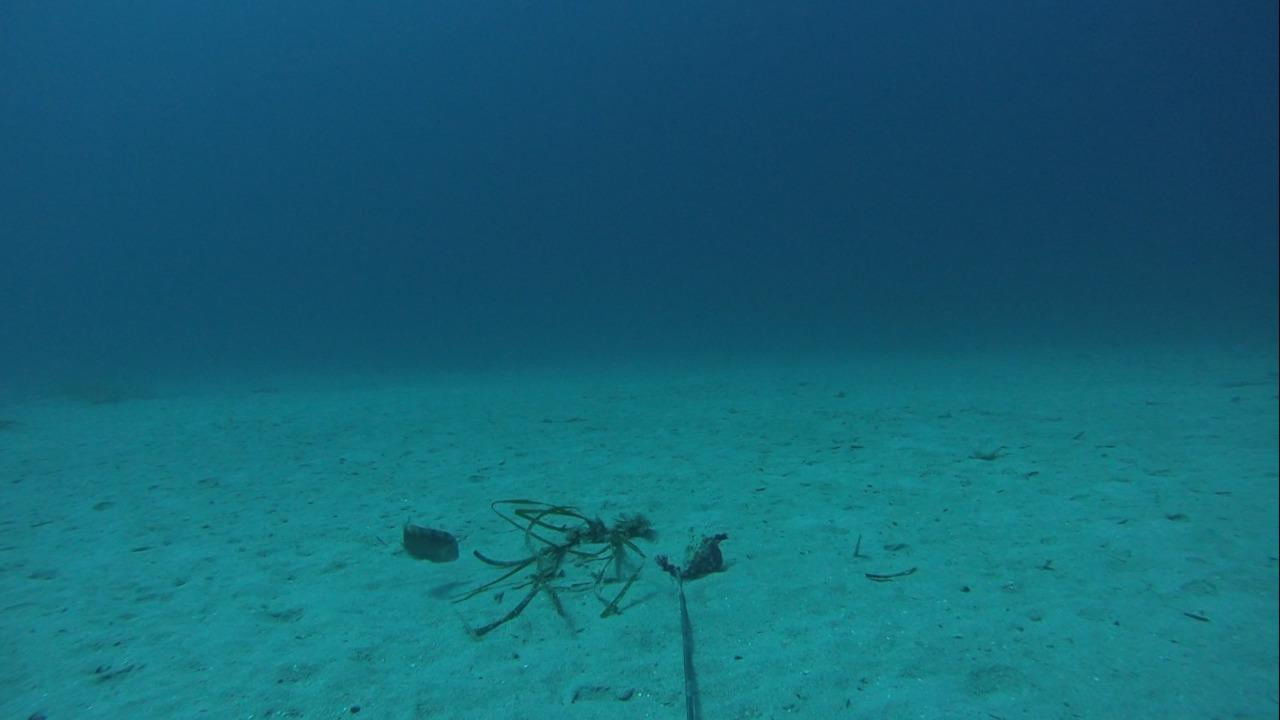raor: (394, 514, 463, 564)
